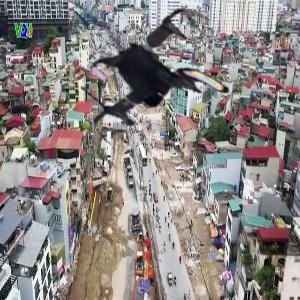drone: (77, 1, 248, 172)
